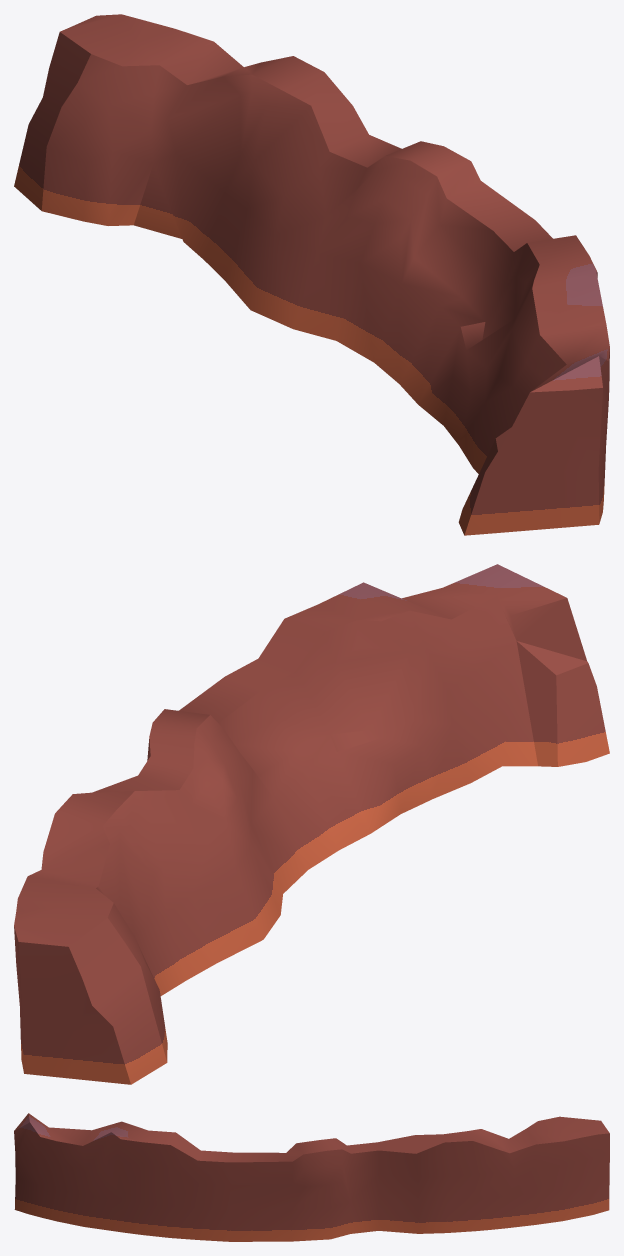
Rendered from largebgobjct1.glb.
3 renders of one model, top to bottom at view 1: azimuth 30°, elevation 25°; view 2: azimuth 150°, elevation 25°; view 3: azimuth 270°, elevation 25°, orthographic. The views are drawn at different scales.
Visible parts, largest first — view 1: Landscape; view 2: Landscape; view 3: Landscape.
Part boxes in pixels (x1,y1,x2,y2): Landscape: (14,14,609,535); Landscape: (14,564,609,1084); Landscape: (14,1113,609,1241).
Bounding box in the file's own units: 102 × 71.9 × 386.
1 material, 1 textured.
